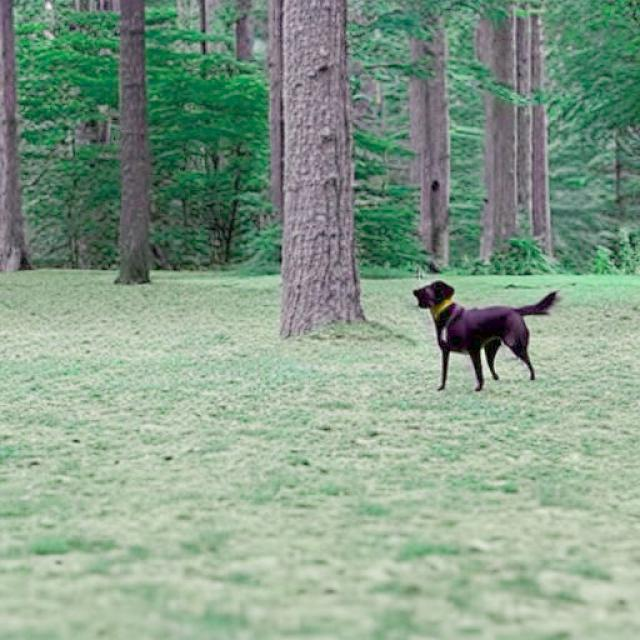Dog: (412, 280, 559, 392)
